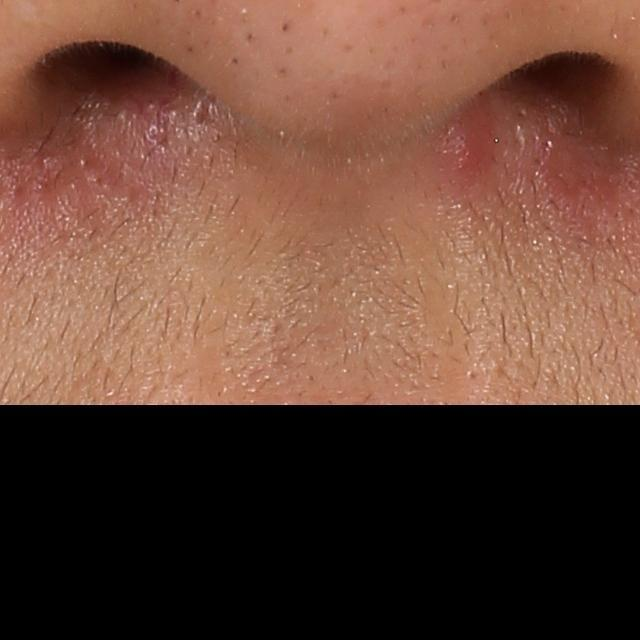papule: (438, 100, 508, 186)
